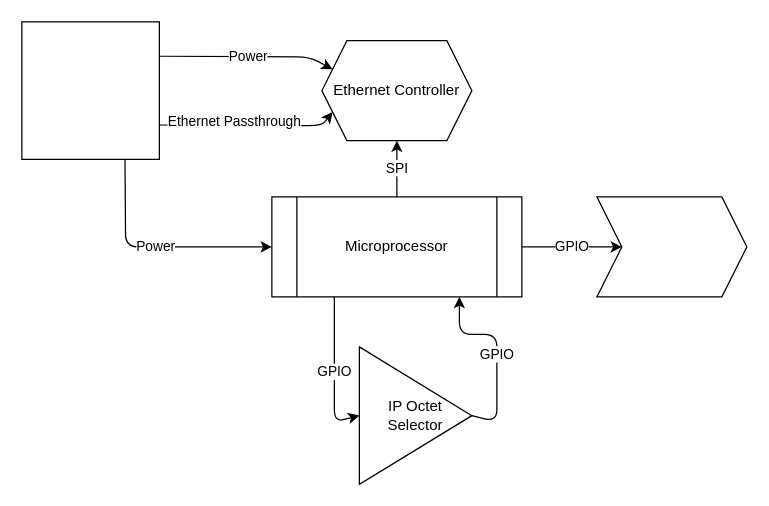
Some shapes in this 769 by 506 pixel diagram are drawn without their labels. The shapes that lost their labels are listed below. From the top down, each one's box as (x1, y1, x2, y2) in pixels, then its label:
(21, 21, 159, 159): POE Siphon
(596, 196, 747, 297): Specialized Peripherals
